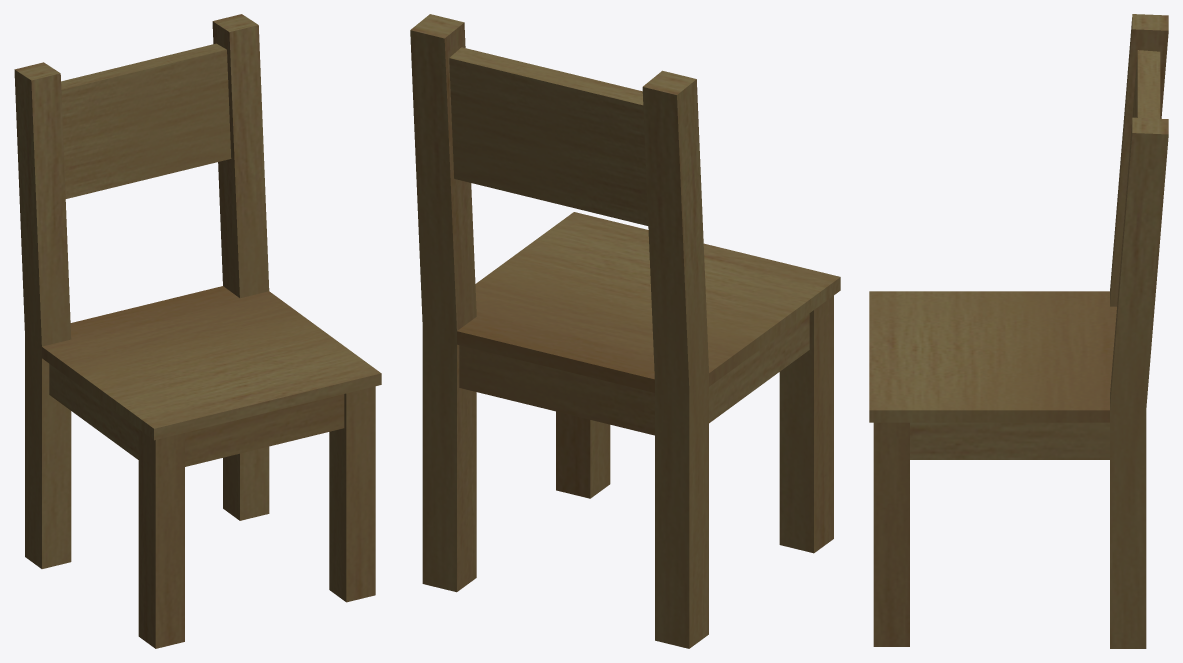
The model's file is chair.fbx.
3 views of the same model, side by side, from view 1: azimuth 30°, elevation 25°; view 2: azimuth 150°, elevation 25°; view 3: azimuth 270°, elevation 25° (orthographic). The views are drawn at different scales.
Visible parts, largest first — view 1: chairA; view 2: chairA; view 3: chairA.
Part boxes in pixels (<box>): chairA: <box>14,14,381,648</box>; chairA: <box>410,14,840,648</box>; chairA: <box>869,14,1168,648</box>.
Size of the model in its own units: 3.72 by 7.52 by 3.96.
1 material, 1 textured.
